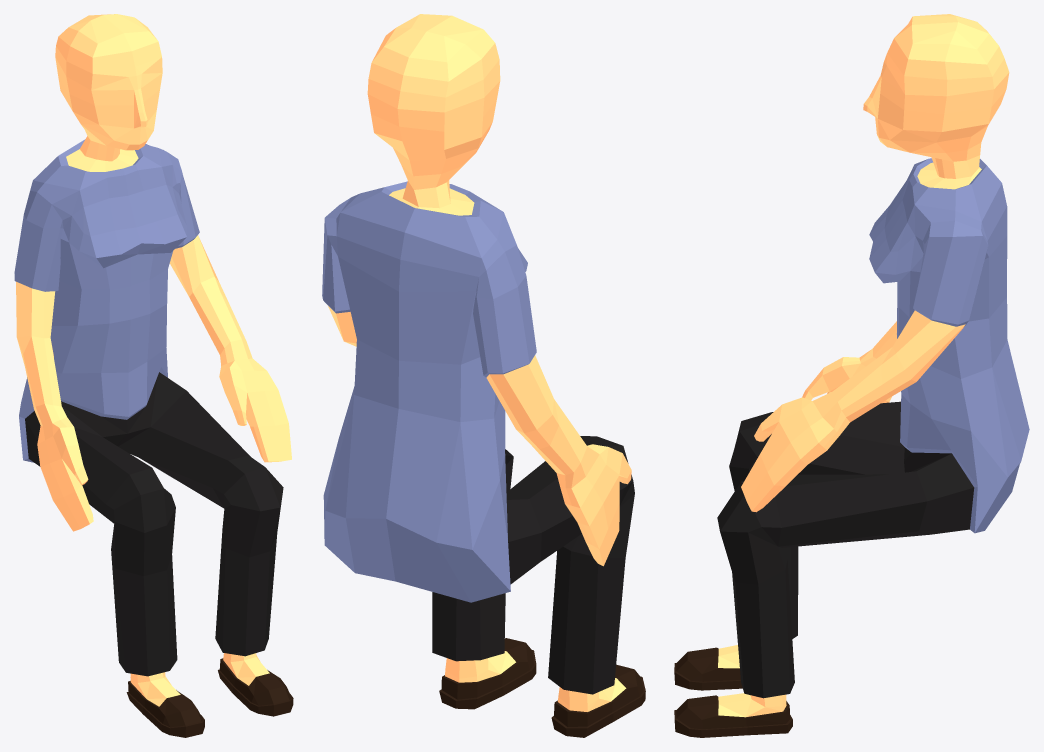
File: female_sitting.glb
The picture shows the model from 3 angles, left to right: view 1: azimuth 30°, elevation 25°; view 2: azimuth 150°, elevation 25°; view 3: azimuth 270°, elevation 25°; orthographic projection. The views are drawn at different scales.
Visible parts, largest first — view 1: Female_Sitting; view 2: Female_Sitting; view 3: Female_Sitting.
Part boxes in pixels (<box>): Female_Sitting: <box>14,14,293,737</box>; Female_Sitting: <box>322,14,645,737</box>; Female_Sitting: <box>674,14,1029,737</box>.
Bounding box in the file's own units: 0.6349 × 1.85 × 0.8779.
